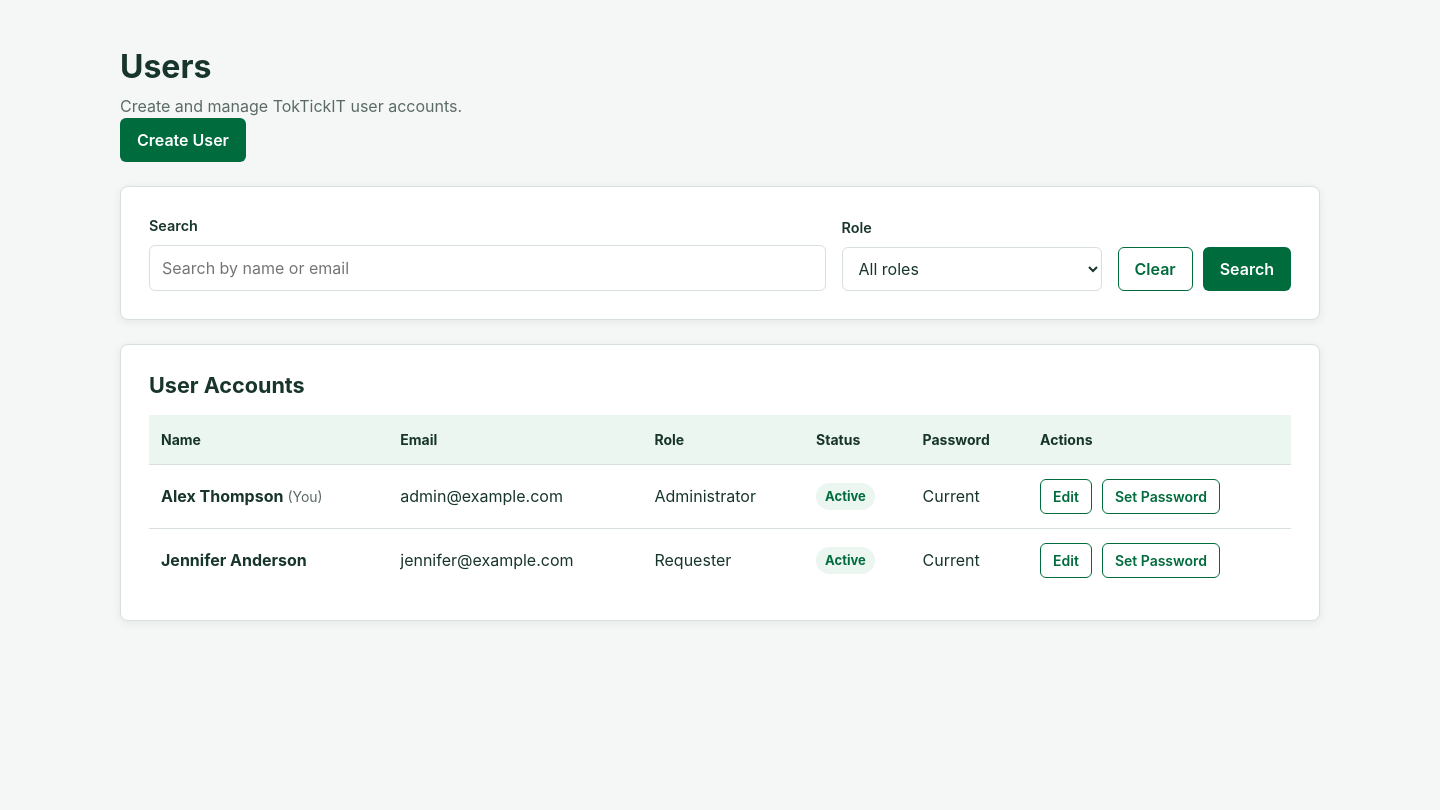
Test: UserManagement › updates an existing user
Expected: the text "Jennifer Anderson" is shown, x1=161 y1=550 x2=307 y2=570
Click the button "Edit" in the row of "Jennifer Anderson". click: (1066, 560)
box: x1=1040 y1=543 x2=1092 y2=578
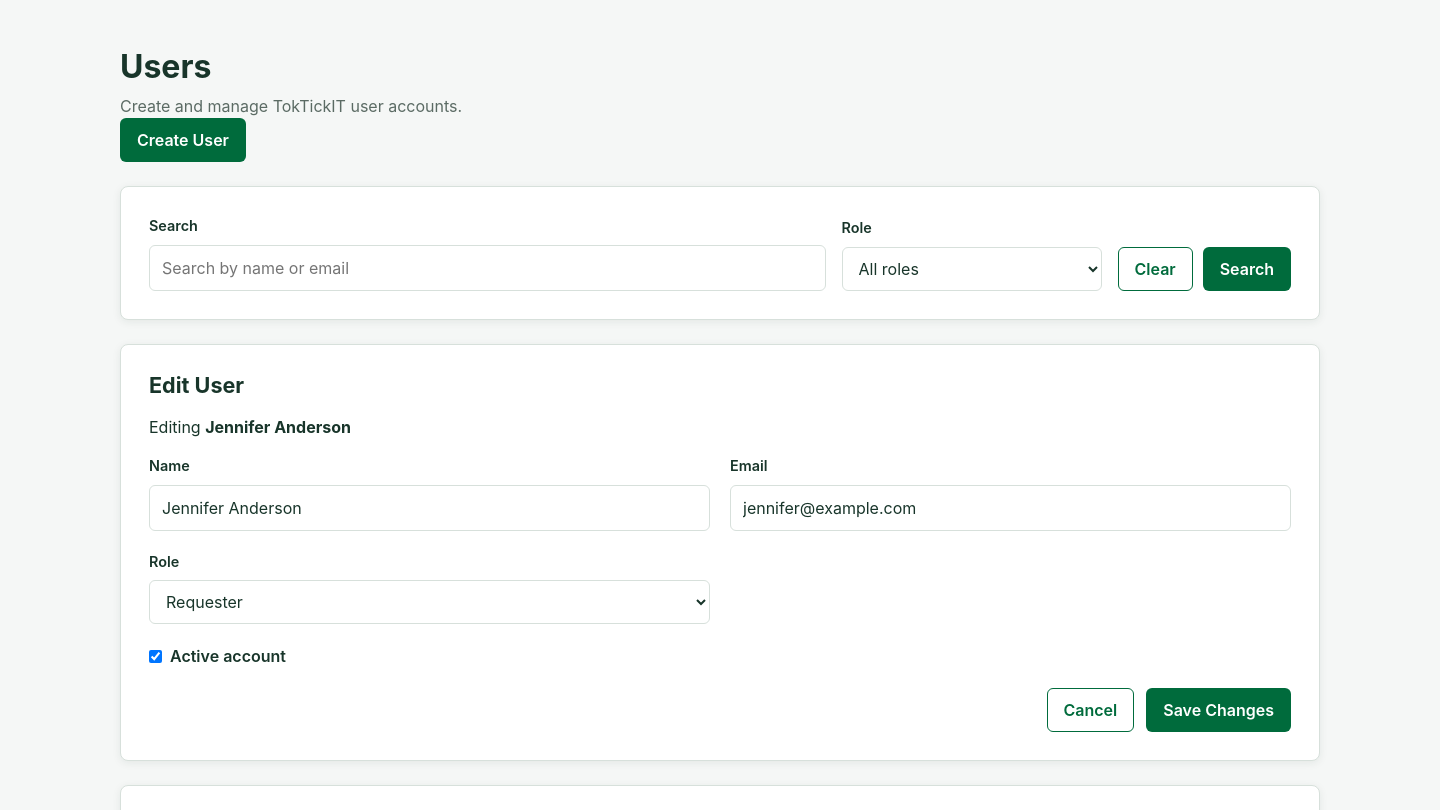
Replace the text in the field labelled "Name" with "Jennifer Wilson". click: (430, 508)
box: x1=149 y1=484 x2=710 y2=530
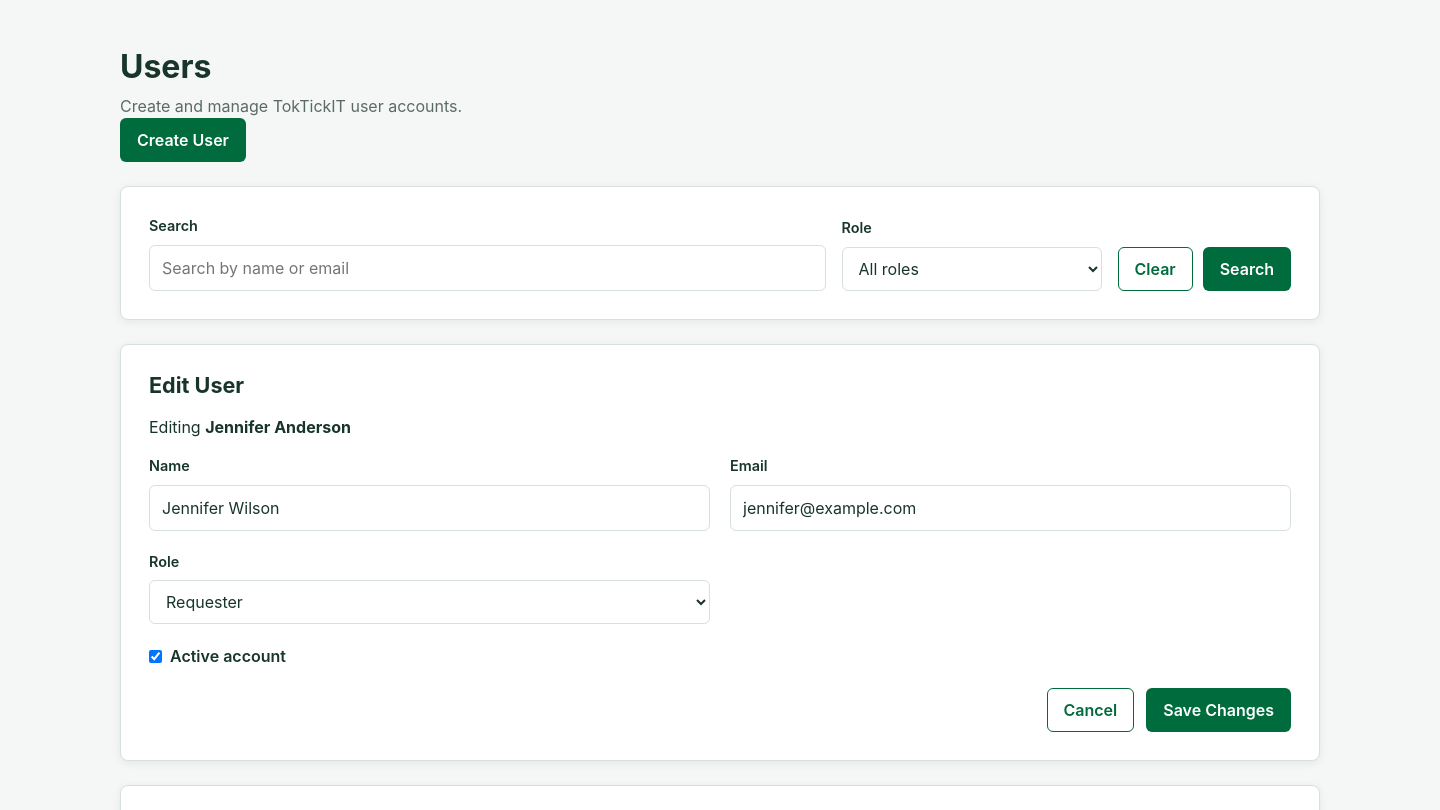
Select "IT Staff" in the dropdown labelled "Role" below "Editing". click: (430, 602)
box: x1=149 y1=580 x2=710 y2=624
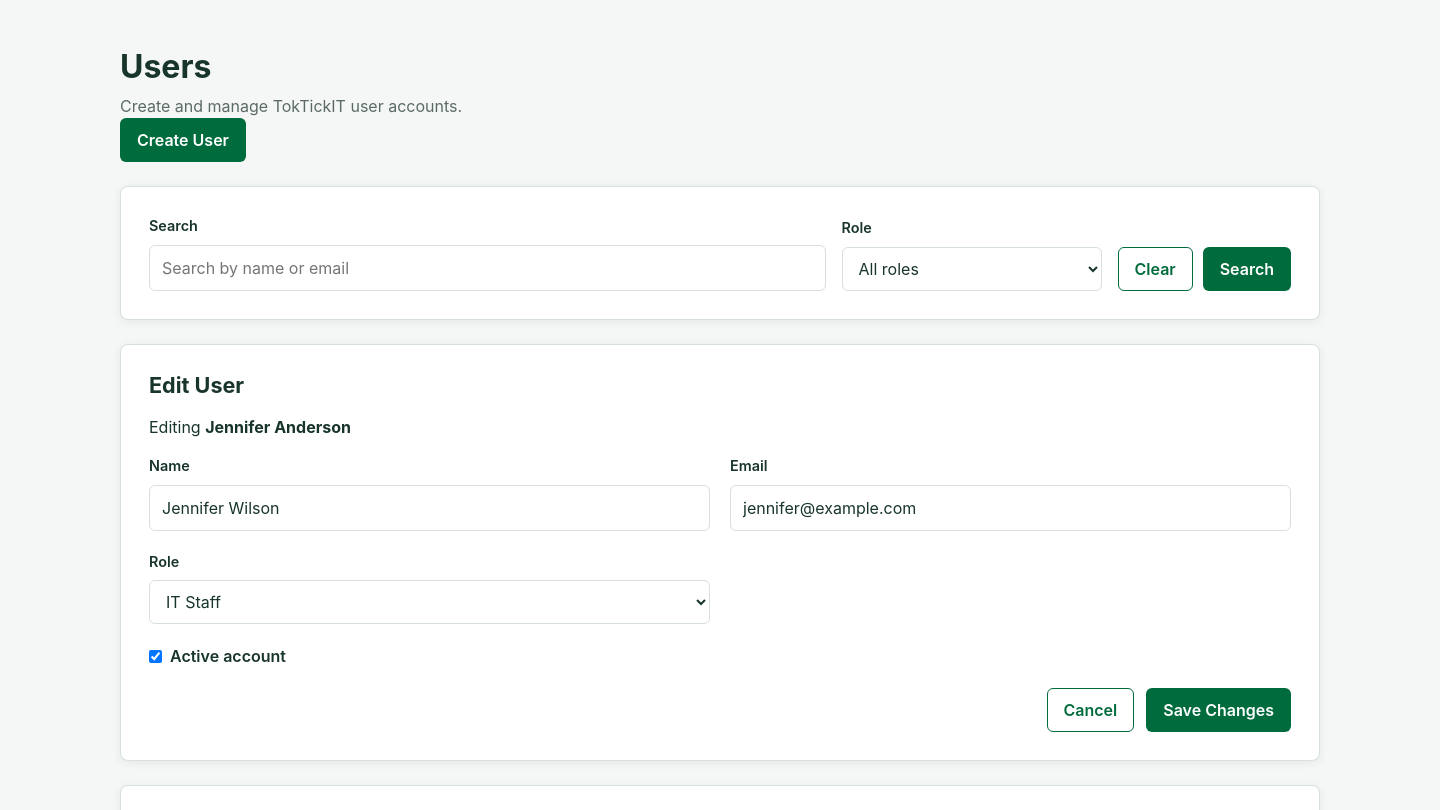
Click the button "Save Changes". click: (1219, 710)
box: x1=1146 y1=688 x2=1291 y2=732
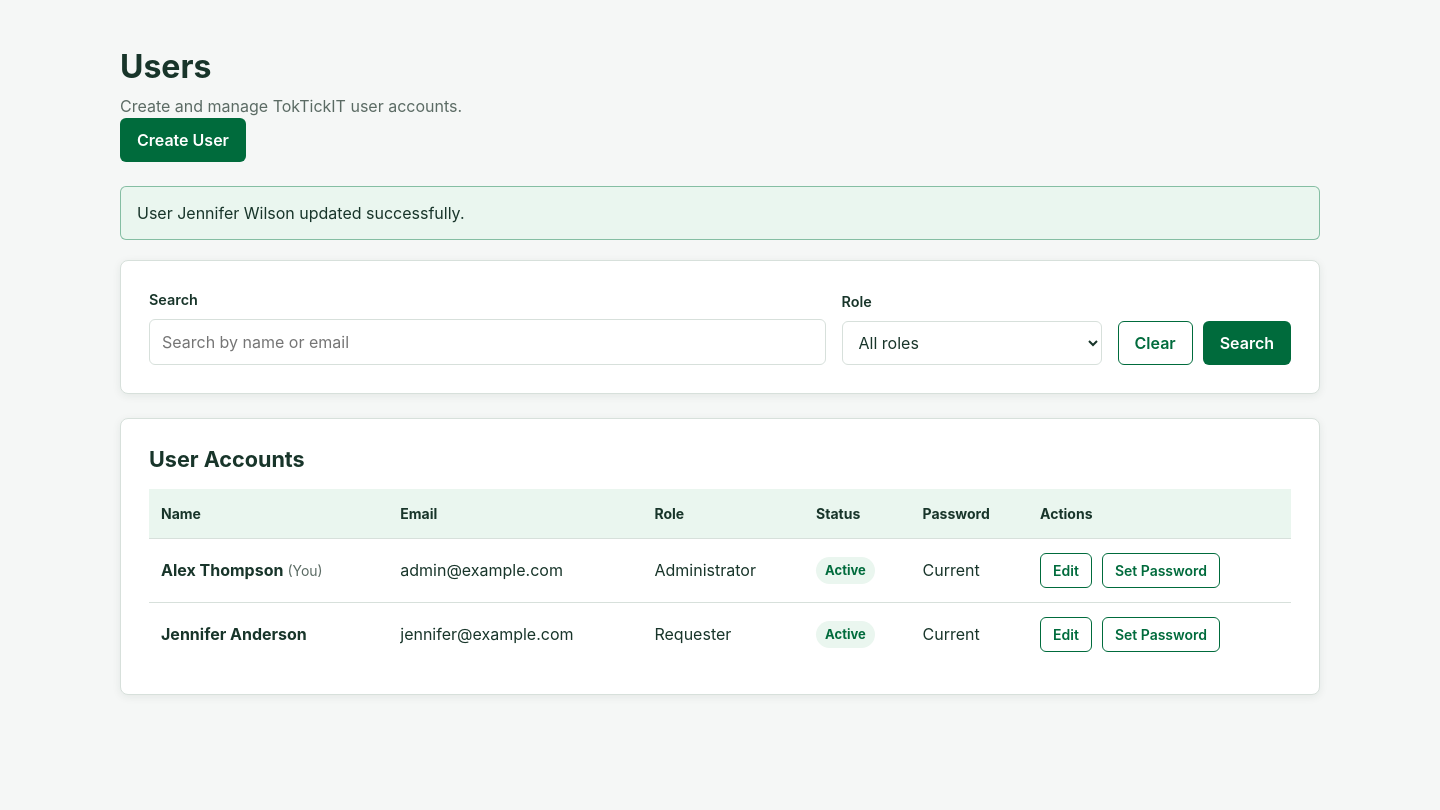
Result: the message reads "User Jennifer Wilson updated successfully." at x1=137 y1=203 x2=464 y2=223
